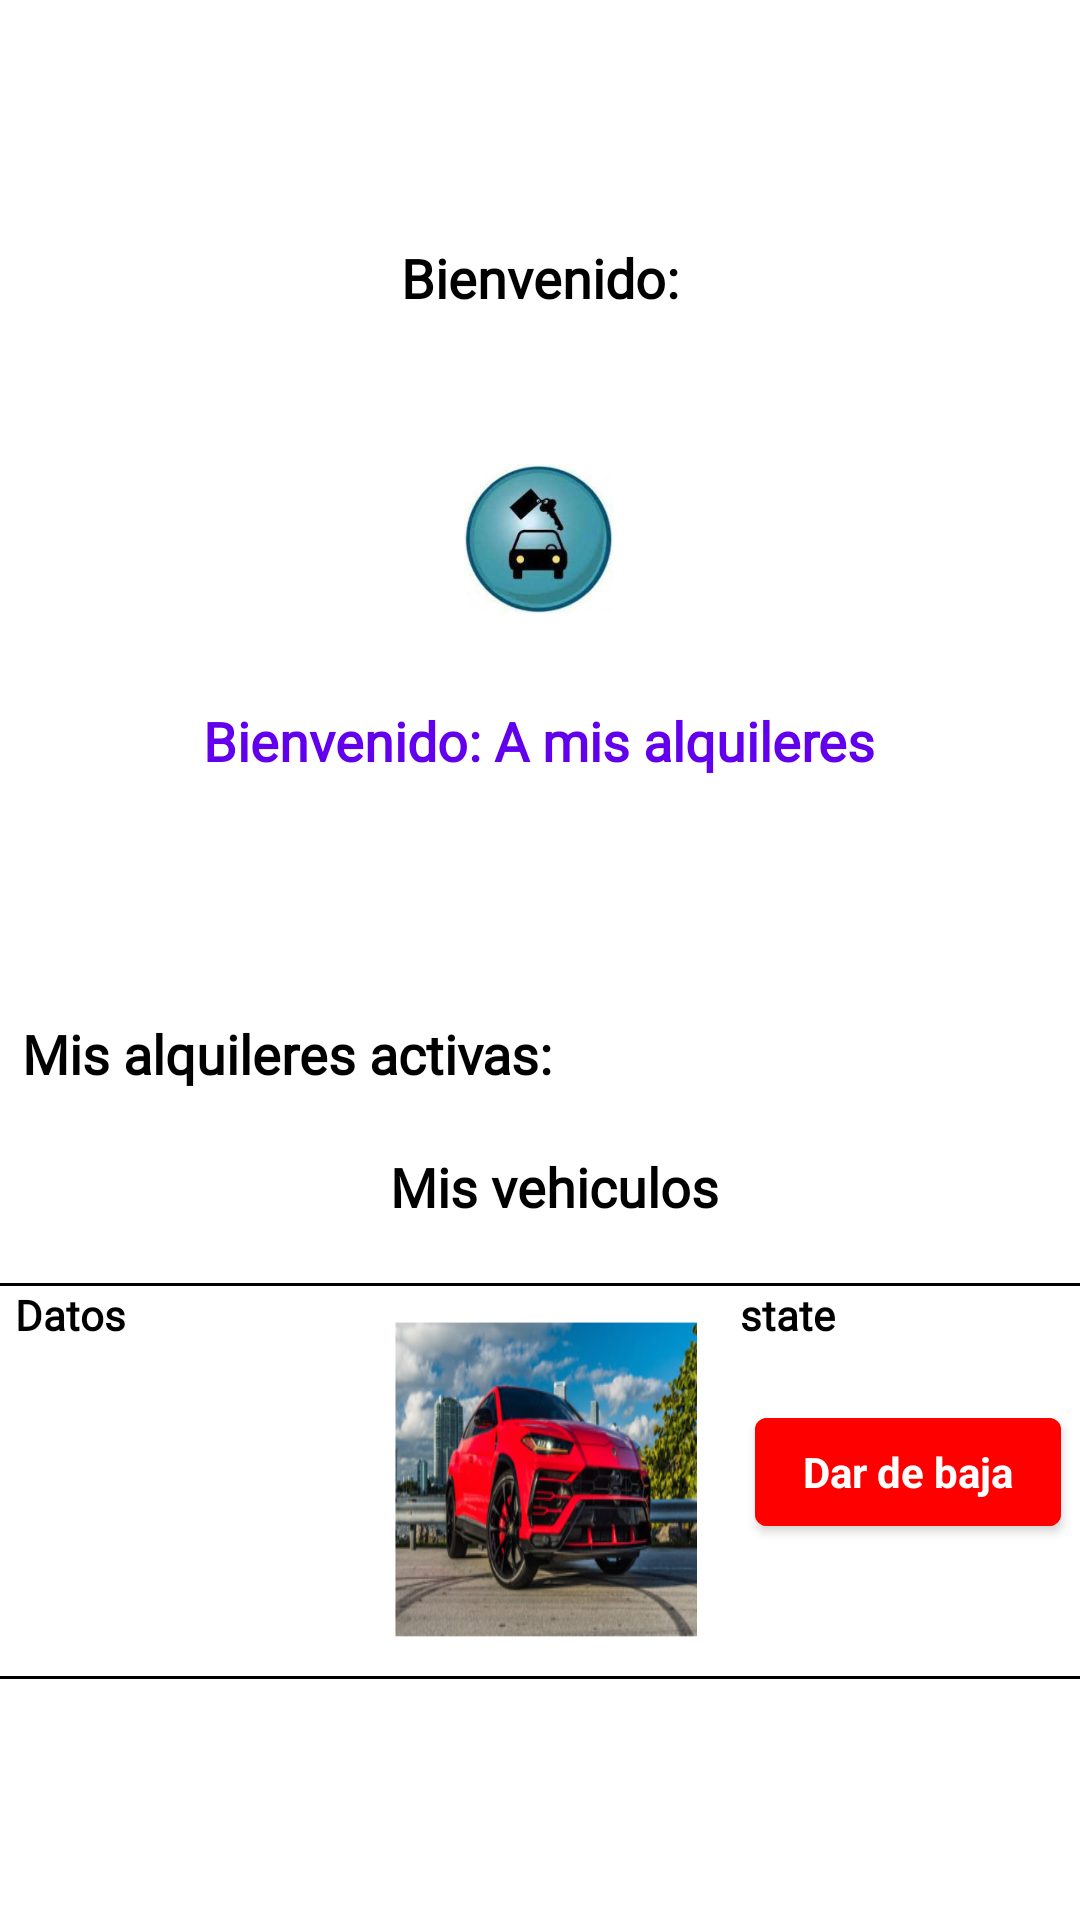

Named icons in this screenshot (1080px×1920px) and their bounding boxes, [x1=x1, y1=y1, x2=x2, y2=y2]:
car: [x1=465, y1=466, x2=612, y2=613], [x1=395, y1=1322, x2=697, y2=1637]
